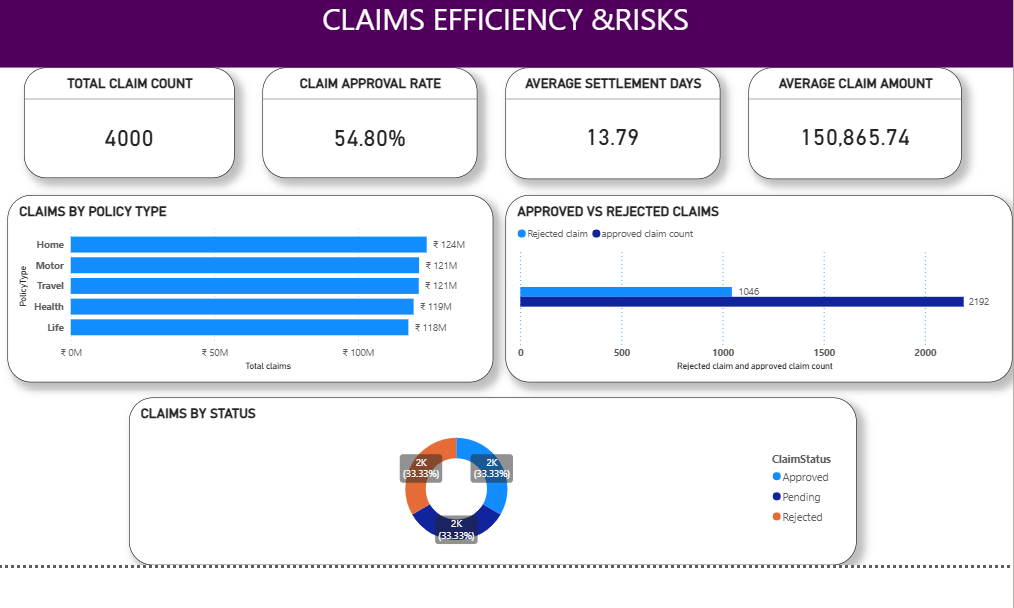

This screenshot's page, from the dashboard's own definition file:
{"tool":"powerbi","page":{"name":"Page 2","canvas":[1280,720],"ordinal":1},"visuals":[{"type":"card","title":"CLAIM APPROVAL RATE","fields":{"Values":["Fact_Claims.claim approval rate"]},"box":[335.2,92.3,270.4,139.3],"z":0},{"type":"card","title":"AVERAGE SETTLEMENT DAYS","fields":{"Values":["Fact_Claims.AVG settlement days"]},"box":[641.2,92.3,270.4,140.9],"z":1000},{"type":"donutChart","title":"CLAIMS BY STATUS","fields":{"Y":["Fact_Claims.approved claim count"],"Category":["Fact_Claims.ClaimStatus"]},"box":[166.3,508.4,916.5,211.7],"z":2000},{"type":"clusteredBarChart","title":"APPROVED VS REJECTED CLAIMS ","fields":{"Y":["Fact_Claims.Rejected claim","Fact_Claims.approved claim count"]},"box":[640.6,253.2,638.7,236.2],"z":3000},{"type":"clusteredBarChart","title":"CLAIMS BY POLICY TYPE","fields":{"Category":["Dim_Policy.PolicyType"],"Y":["Fact_Claims.Total claims"]},"box":[13.2,253.2,612.3,236.2],"z":4000},{"type":"card","title":"TOTAL CLAIM COUNT","fields":{"Values":["Fact_Claims.total claim count"]},"box":[34,92.3,265.6,139.3],"z":5000},{"type":"card","title":"AVERAGE CLAIM AMOUNT","fields":{"Values":["Fact_Claims.AVERAGE CLAIM AMOUNT"]},"box":[947.2,92.3,268.8,140.9],"z":6000},{"type":"textbox","box":[0,0,1280.8,92.3],"z":7000}]}

Visuals, with their boxes on the page's 1280x720 design canvas (x1, y1, x2, y2). These are canvas units, not pixel positions in the 1014x608 screenshot, which may show the page scaled, cropped or inside an application window:
"CLAIM APPROVAL RATE" card: (335, 92, 606, 232)
"AVERAGE SETTLEMENT DAYS" card: (641, 92, 912, 233)
"CLAIMS BY STATUS" donutChart: (166, 508, 1083, 720)
"APPROVED VS REJECTED CLAIMS " clusteredBarChart: (641, 253, 1279, 489)
"CLAIMS BY POLICY TYPE" clusteredBarChart: (13, 253, 626, 489)
"TOTAL CLAIM COUNT" card: (34, 92, 300, 232)
"AVERAGE CLAIM AMOUNT" card: (947, 92, 1216, 233)
textbox: (0, 0, 1281, 92)
